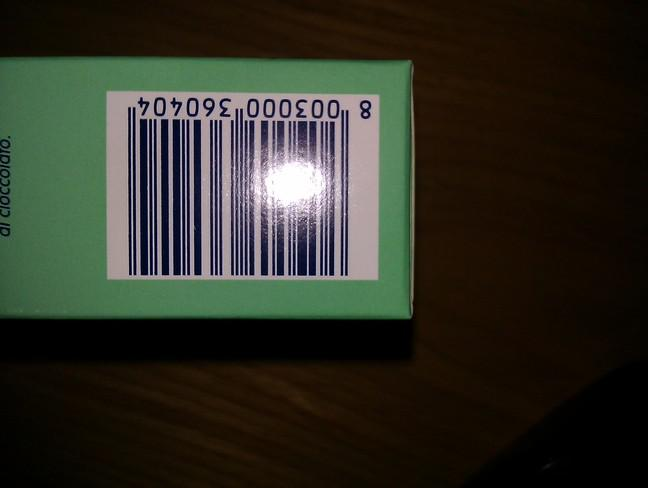Barkod: (107, 93, 376, 278)
